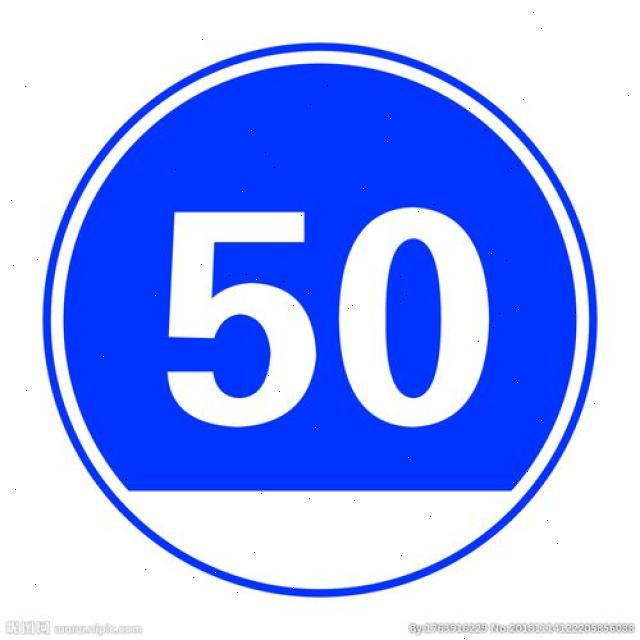speed limit 50: (39, 40, 597, 596)
